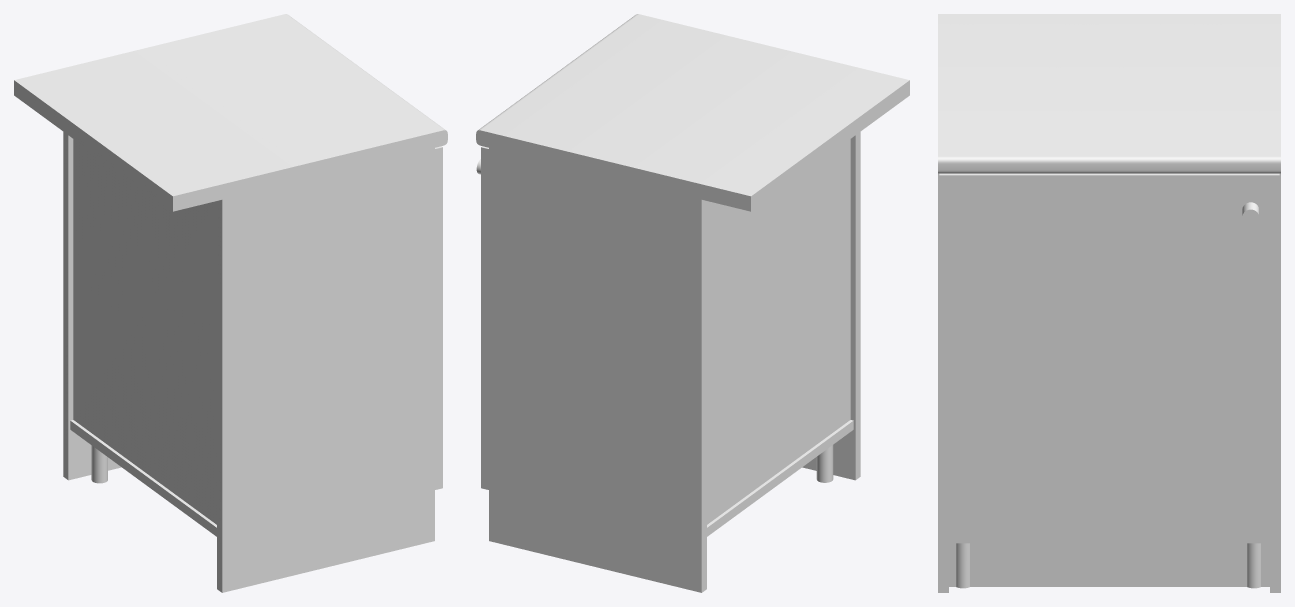
The model's file is szekreny_alap.glb.
The picture shows the model from 3 angles, left to right: view 1: azimuth 30°, elevation 25°; view 2: azimuth 150°, elevation 25°; view 3: azimuth 270°, elevation 25°; orthographic projection. The views are drawn at different scales.
Parts seen in each view (by area): view 1: MESH_Korpusz_Alap, MESH_Munkapult_Standard, MESH_Labazat_Standard, MESH_Ajto_Sima_Balos; view 2: MESH_Korpusz_Alap, MESH_Munkapult_Standard, MESH_Labazat_Standard, MESH_Ajto_Sima_Balos, MESH_Labazat_Cso; view 3: MESH_Ajto_Sima_Balos, MESH_Munkapult_Standard, MESH_Ajto_Keretes_Balos, MESH_Labazat_Standard, MESH_Korpusz_Alap, MESH_Labazat_Cso.
Part boxes in pixels (x1=…): MESH_Korpusz_Alap: x1=63, y1=132, x2=434, y2=542; MESH_Munkapult_Standard: x1=14, y1=14, x2=447, y2=211; MESH_Labazat_Standard: x1=63, y1=426, x2=434, y2=592; MESH_Ajto_Sima_Balos: x1=435, y1=146, x2=442, y2=489; MESH_Korpusz_Alap: x1=489, y1=132, x2=860, y2=542; MESH_Munkapult_Standard: x1=476, y1=14, x2=909, y2=211; MESH_Labazat_Standard: x1=489, y1=426, x2=860, y2=592; MESH_Ajto_Sima_Balos: x1=481, y1=146, x2=488, y2=489; MESH_Labazat_Cso: x1=816, y1=445, x2=833, y2=482; MESH_Ajto_Sima_Balos: x1=939, y1=173, x2=1279, y2=543; MESH_Munkapult_Standard: x1=938, y1=14, x2=1280, y2=173; MESH_Ajto_Keretes_Balos: x1=939, y1=175, x2=1279, y2=543; MESH_Labazat_Standard: x1=938, y1=538, x2=1280, y2=592; MESH_Korpusz_Alap: x1=938, y1=173, x2=1280, y2=538; MESH_Labazat_Cso: x1=956, y1=543, x2=1260, y2=588.
Bounding box in the file's own units: 0.6206 × 0.852 × 0.6.
Materials: 1 (1 with a texture image).
